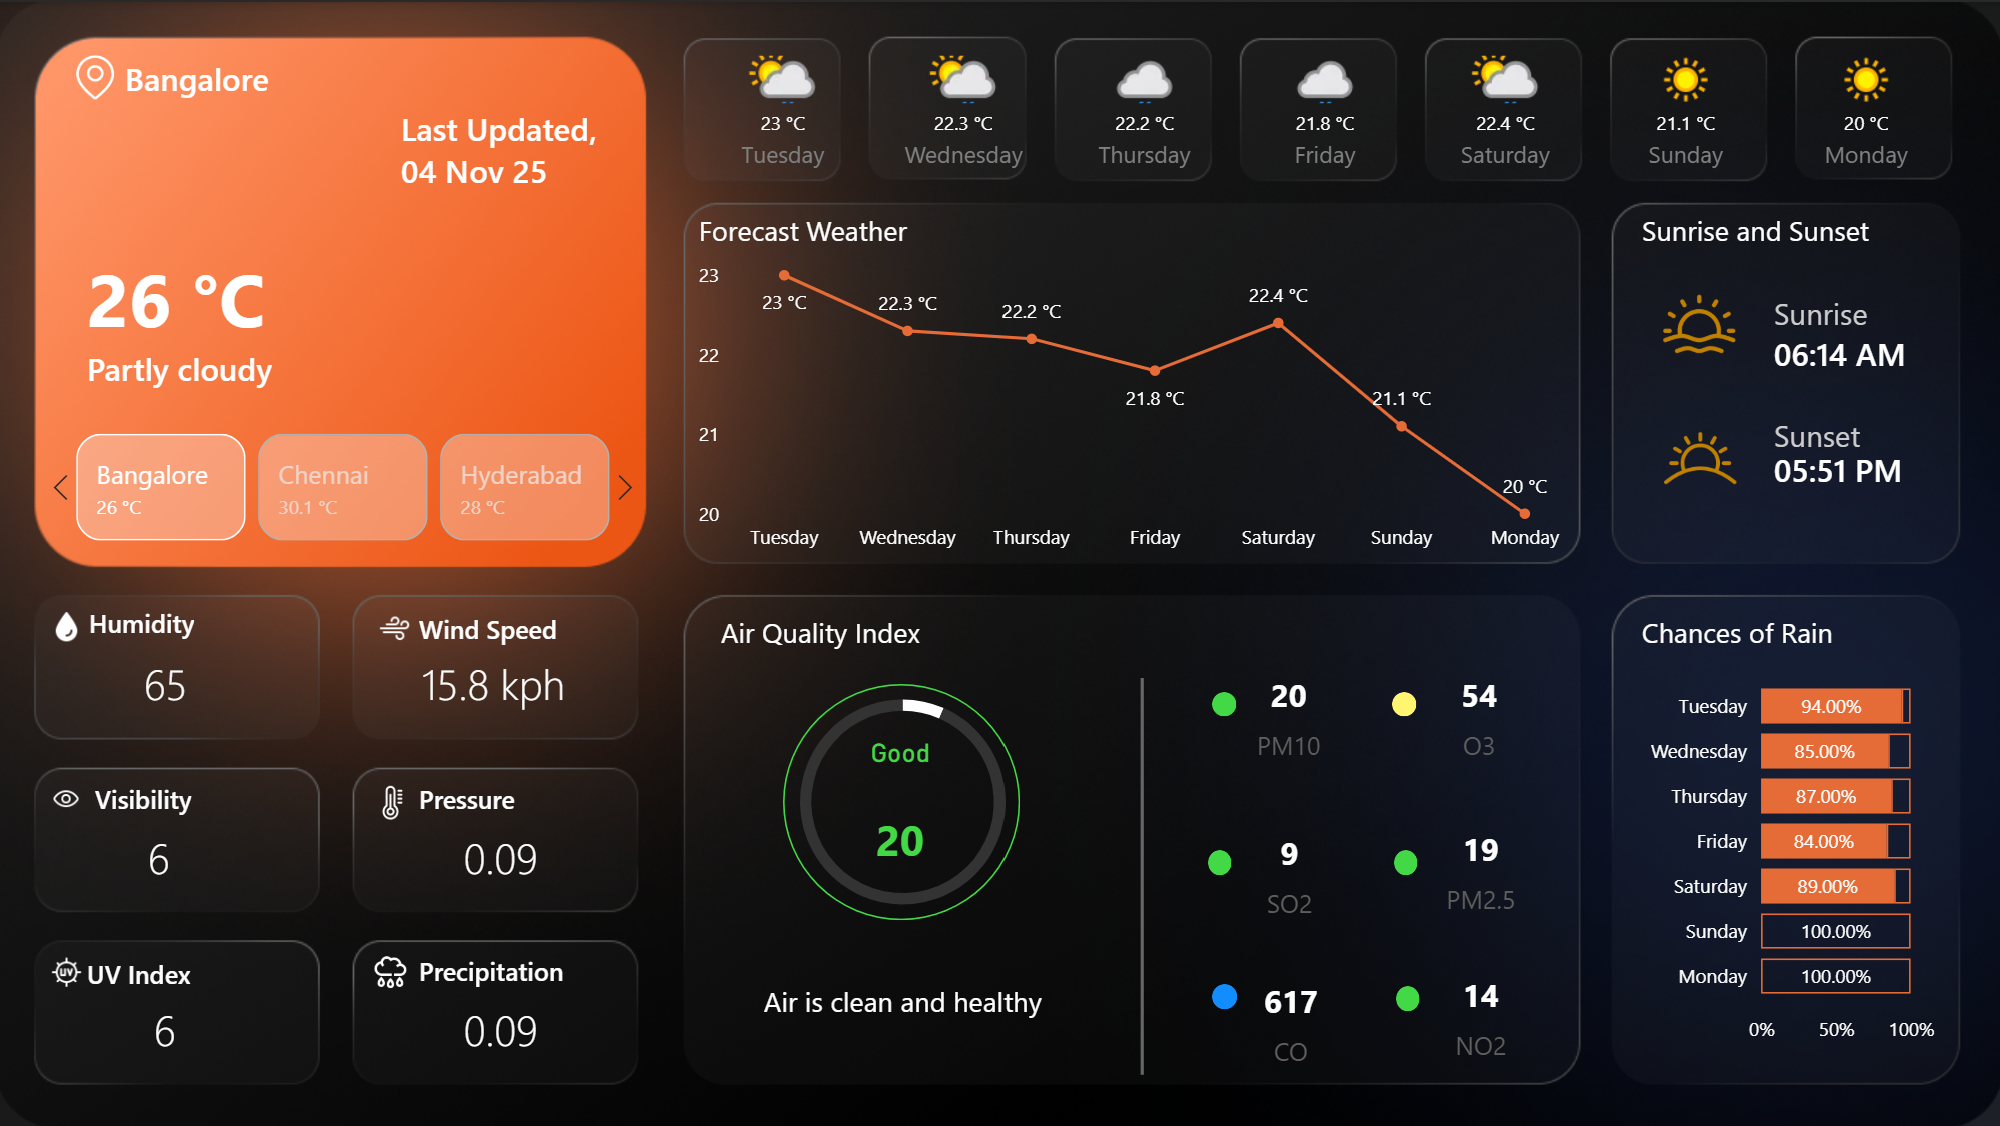

The page's visual inventory and layout, read from the dashboard file:
{"tool":"powerbi","page":{"name":"Page 1","canvas":[1280,720],"ordinal":0},"visuals":[{"type":"shape","box":[1133.4,209,98.2,29.3],"z":0,"group":"g1"},{"type":"shape","box":[1132.9,261.1,62.5,29.3],"z":0,"group":"g2"},{"type":"donutChart","fields":{"Y":["Sum(Current.current.air_quality.pm10)","_Measures.Left_value_PM10"]},"box":[481.6,423.4,193.2,173.3],"z":0},{"type":"shape","box":[1133.4,186.1,84.1,22.9],"z":1000,"group":"g1"},{"type":"advancedSlicerVisual","fields":{"Values":["Locations.location.name"]},"box":[26.7,270,390,78.3],"z":1000},{"type":"shape","box":[1133,284.1,98.2,25.5],"z":1000,"group":"g2"},{"type":"shape","box":[58.3,156.7,196.7,61.7],"z":2000},{"type":"group","id":"g1","title":"Group 1","box":[1133.4,186.1,98.2,52.3],"z":2000,"group":"g2"},{"type":"shape","box":[58.3,218.3,303.3,30],"z":3000},{"type":"shape","box":[83.3,28.3,205,40],"z":4000},{"type":"image","box":[45,28.3,38.3,40],"z":5000},{"type":"shape","box":[258.6,63.9,147.7,59.7],"z":6000},{"type":"cardVisual","fields":{"Data":["Min(Current.current.condition.icon)"]},"box":[26.7,80,106.7,88.3],"z":7000},{"type":"image","box":[26.7,493.3,36.7,29.2],"z":8000},{"type":"shape","box":[63.8,493.8,88.8,28.8],"z":9000},{"type":"shape","box":[60,381.2,88.8,28.8],"z":10000},{"type":"shape","box":[58.8,602.5,88.8,32.5],"z":11000},{"type":"shape","box":[270,493.8,88.8,28.8],"z":12000},{"type":"shape","box":[270,385,88.8,28.8],"z":13000},{"type":"shape","box":[270,602.5,125,28.8],"z":14000},{"type":"image","box":[30,381.2,30,33.8],"z":15000},{"type":"image","box":[30,600,30,36.2],"z":16000},{"type":"image","box":[240,383.8,30,31.2],"z":17000},{"type":"image","box":[237.5,495,32.5,31.2],"z":18000},{"type":"image","box":[235,600,35,36.2],"z":19000},{"type":"cardVisual","fields":{"Data":["Sum(Current.current.humidity)"]},"box":[77.5,396.2,62.5,66.2],"z":20000},{"type":"cardVisual","fields":{"Data":["_Measures.Wind_Speed"]},"box":[255,396.2,146.2,66.2],"z":21000},{"type":"cardVisual","fields":{"Data":["Sum(Current.current.precip_mm)"]},"box":[281.2,507.5,95,66.2],"z":22000},{"type":"cardVisual","fields":{"Data":["Sum(Current.current.precip_mm)"]},"box":[281.2,617.5,95,66.2],"z":23000},{"type":"cardVisual","fields":{"Data":["Sum(Current.current.vis_km)"]},"box":[80,507.5,68.8,66.2],"z":24000},{"type":"cardVisual","fields":{"Data":["Sum(Current.current.uv)"]},"box":[83.8,617.5,62.5,66.2],"z":25000},{"type":"advancedSlicerVisual","fields":{"Values":["Forecast_Day.Day_Name"]},"box":[443.7,28,812.1,96.9],"z":26000},{"type":"lineChart","title":"Forecast Weather","fields":{"Category":["Forecast_Day.Day_Name"],"Y":["Sum(Forecast_Day.forecast.forecastday.day.avgtemp_c)"]},"box":[443.7,133.9,567.3,225.7],"z":27000},{"type":"shape","box":[1049.2,133.9,167,22.9],"z":28000},{"type":"image","box":[1049.2,177.2,72.7,56.1],"z":29000},{"type":"image","box":[1044.1,255,84.1,71.4],"z":30000},{"type":"group","id":"g2","title":"Group 2","box":[1132.9,186.1,98.7,123.5],"z":31000},{"type":"hundredPercentStackedBarChart","title":"Chances of Rain","fields":{"Category":["Forecast_Day.Day_Name"],"Y":["Sum(Forecast_Day.forecast.forecastday.day.daily_chance_of_rain)","_Measures.Left_Value_Rain"]},"box":[1044.1,390.1,196.3,283],"z":32000},{"type":"shape","box":[462.5,389.5,166.6,23.1],"z":33000},{"type":"cardVisual","fields":{"Data":["Sum(Current.current.air_quality.o3)"]},"box":[897.8,409.1,96.6,93.8],"z":34000},{"type":"cardVisual","fields":{"Data":["Sum(Current.current.air_quality.pm2_5)"]},"box":[897.8,507.2,98,93.8],"z":35000},{"type":"cardVisual","fields":{"Data":["Sum(Current.current.air_quality.so2)"]},"box":[775.7,510,99.4,93.8],"z":36000},{"type":"cardVisual","fields":{"Data":["Sum(Current.current.air_quality.pm10)"]},"box":[772.8,409.1,103.7,93.8],"z":37000},{"type":"cardVisual","fields":{"Data":["Sum(Current.current.air_quality.co)"]},"box":[767.1,603.8,116.5,93.8],"z":38000},{"type":"cardVisual","fields":{"Data":["Sum(Current.current.air_quality.no2)"]},"box":[897.8,600.9,98,93.8],"z":39000},{"type":"shape","box":[775.7,440.4,15.6,15.6],"z":40000},{"type":"shape","box":[775.5,626.4,16.2,16.2],"z":41000},{"type":"shape","box":[773.2,540.9,15,16.2],"z":42000},{"type":"shape","box":[889.3,440.4,15.6,15.6],"z":43000},{"type":"shape","box":[891,540.9,15,16.2],"z":44000},{"type":"shape","box":[892.2,627.5,15,16.2],"z":45000},{"type":"shape","box":[679.1,430.5,102.3,252.9],"z":46000},{"type":"shape","box":[502.9,434.7,150.6,150.6],"z":47000},{"type":"cardVisual","fields":{"Data":["Sum(Current.current.air_quality.pm10)"]},"box":[525.6,468.8,103.7,100],"z":48000},{"type":"shape","box":[470.2,582.5,215.9,109.4],"z":49000}]}

Visuals, with their boxes in screenshot pixels (x1, y1, x2, y2), scaled from the page's 1280x720 canvas onto the 2000x1126 screenshot:
shape: 1771, 327, 1924, 373
shape: 1770, 408, 1868, 454
donutChart - Sum(Current.current.air_quality.pm10) x _Measures.Left_value_PM10: 752, 662, 1054, 933
shape: 1771, 291, 1902, 327
advancedSlicerVisual - Locations.location.name: 42, 422, 651, 545
shape: 1770, 444, 1924, 484
shape: 91, 245, 398, 342
"Group 1" group: 1771, 291, 1924, 373
shape: 91, 341, 565, 388
shape: 130, 44, 450, 107
image: 70, 44, 130, 107
shape: 404, 100, 635, 193
cardVisual - Min(Current.current.condition.icon): 42, 125, 208, 263
image: 42, 771, 99, 817
shape: 100, 772, 238, 817
shape: 94, 596, 233, 641
shape: 92, 942, 231, 993
shape: 422, 772, 561, 817
shape: 422, 602, 561, 647
shape: 422, 942, 617, 987
image: 47, 596, 94, 649
image: 47, 938, 94, 995
image: 375, 600, 422, 649
image: 371, 774, 422, 823
image: 367, 938, 422, 995
cardVisual - Sum(Current.current.humidity): 121, 620, 219, 723
cardVisual - _Measures.Wind_Speed: 398, 620, 627, 723
cardVisual - Sum(Current.current.precip_mm): 439, 794, 588, 897
cardVisual - Sum(Current.current.precip_mm): 439, 966, 588, 1069
cardVisual - Sum(Current.current.vis_km): 125, 794, 233, 897
cardVisual - Sum(Current.current.uv): 131, 966, 229, 1069
advancedSlicerVisual - Forecast_Day.Day_Name: 693, 44, 1962, 195
"Forecast Weather" lineChart: 693, 209, 1580, 562
shape: 1639, 209, 1900, 245
image: 1639, 277, 1753, 365
image: 1631, 399, 1763, 510
"Group 2" group: 1770, 291, 1924, 484
"Chances of Rain" hundredPercentStackedBarChart: 1631, 610, 1938, 1053
shape: 723, 609, 983, 645
cardVisual - Sum(Current.current.air_quality.o3): 1403, 640, 1554, 786
cardVisual - Sum(Current.current.air_quality.pm2_5): 1403, 793, 1556, 940
cardVisual - Sum(Current.current.air_quality.so2): 1212, 798, 1367, 944
cardVisual - Sum(Current.current.air_quality.pm10): 1208, 640, 1370, 786
cardVisual - Sum(Current.current.air_quality.co): 1199, 944, 1381, 1091
cardVisual - Sum(Current.current.air_quality.no2): 1403, 940, 1556, 1086
shape: 1212, 689, 1236, 713
shape: 1212, 980, 1237, 1005
shape: 1208, 846, 1232, 871
shape: 1390, 689, 1414, 713
shape: 1392, 846, 1416, 871
shape: 1394, 981, 1418, 1007
shape: 1061, 673, 1221, 1069
shape: 786, 680, 1021, 915
cardVisual - Sum(Current.current.air_quality.pm10): 821, 733, 983, 890
shape: 735, 911, 1072, 1082
